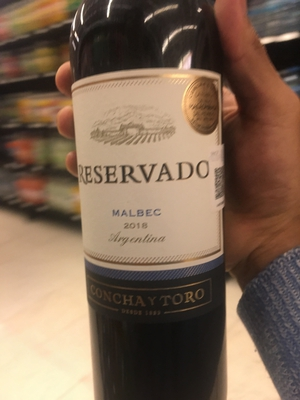reservado malbec: (55, 8, 242, 400)
